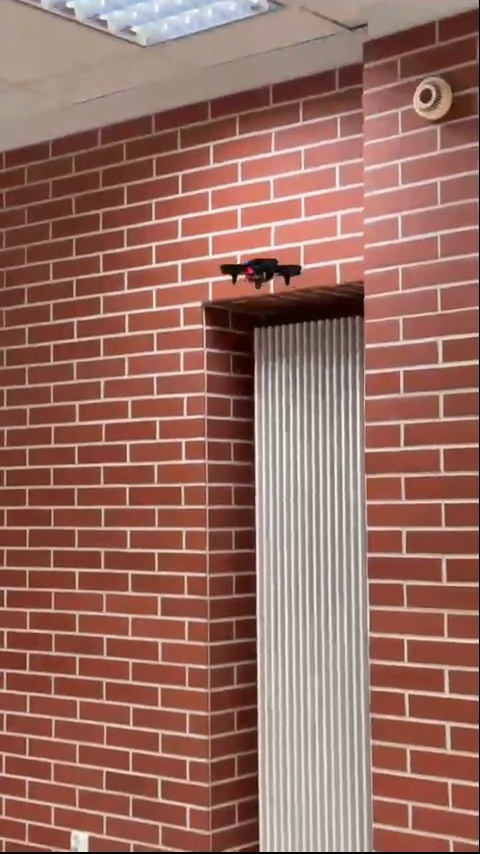drone: (219, 256, 305, 287)
